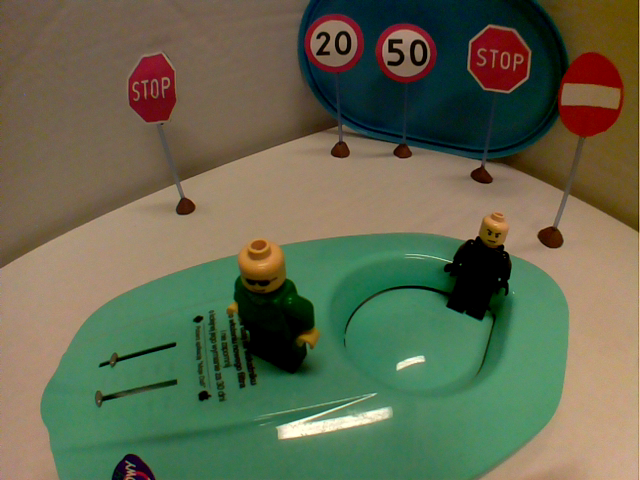Ograniczenie 20: (301, 10, 367, 75)
Ograniczenie 50: (372, 20, 438, 86)
Postac LEGO: (224, 233, 326, 380), (434, 209, 517, 326)
Stop: (463, 20, 537, 97), (122, 47, 181, 128)
Zakaz: (554, 47, 627, 144)
